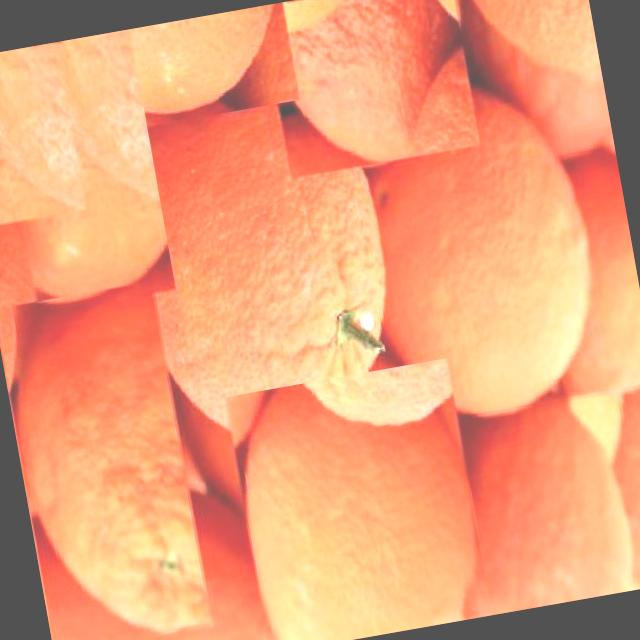Orange: (104, 74, 427, 476), (334, 72, 618, 444), (0, 280, 212, 640), (225, 358, 492, 640), (456, 392, 640, 615), (260, 0, 480, 177), (524, 142, 640, 405), (128, 3, 288, 118), (464, 0, 602, 101)
